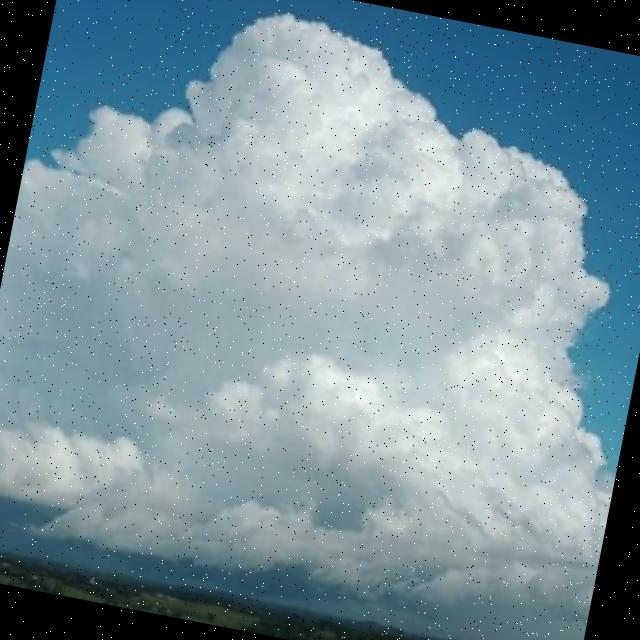Cb: (1, 1, 640, 534)
